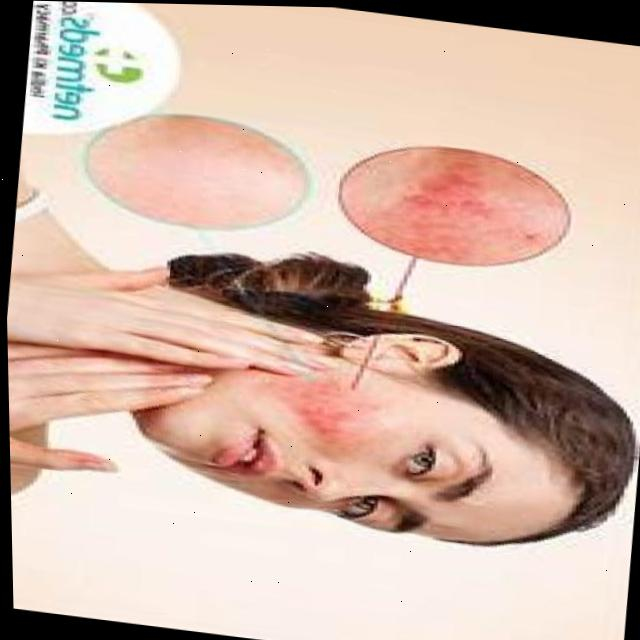Rosacea: (380, 143, 503, 265), (268, 362, 375, 456)
